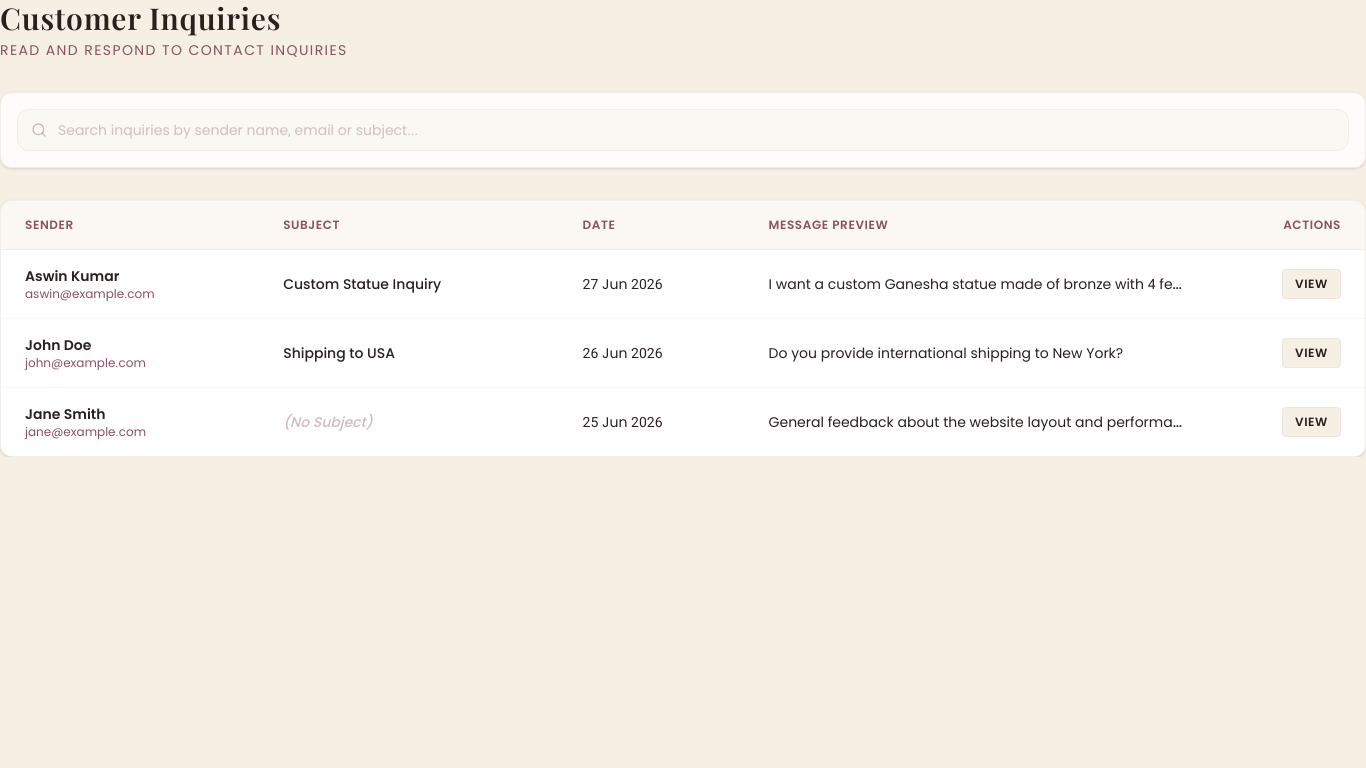
Test: AdminMessagesPage › opens details modal when clicking on view button and closes it
Expected: the text "Inquiry Details" is not shown
// Click the view button for the first submission
Click the button "View" in the row of "Aswin Kumar" at (1312, 284), box 1282,269 -> 1341,299
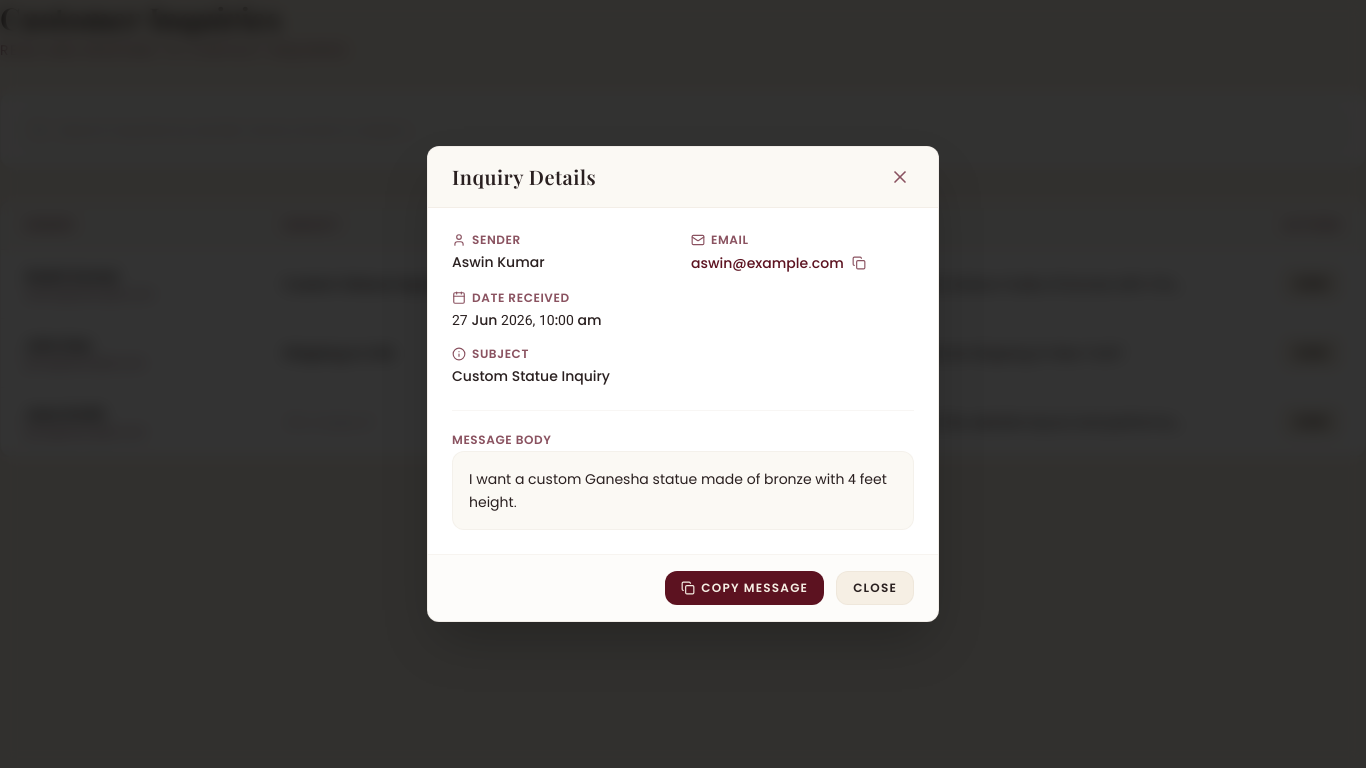
Expected: the heading "Inquiry Details" is shown, 452,163 -> 596,191
// Click close button
Click the button "Close" at (875, 588), box 836,571 -> 914,605
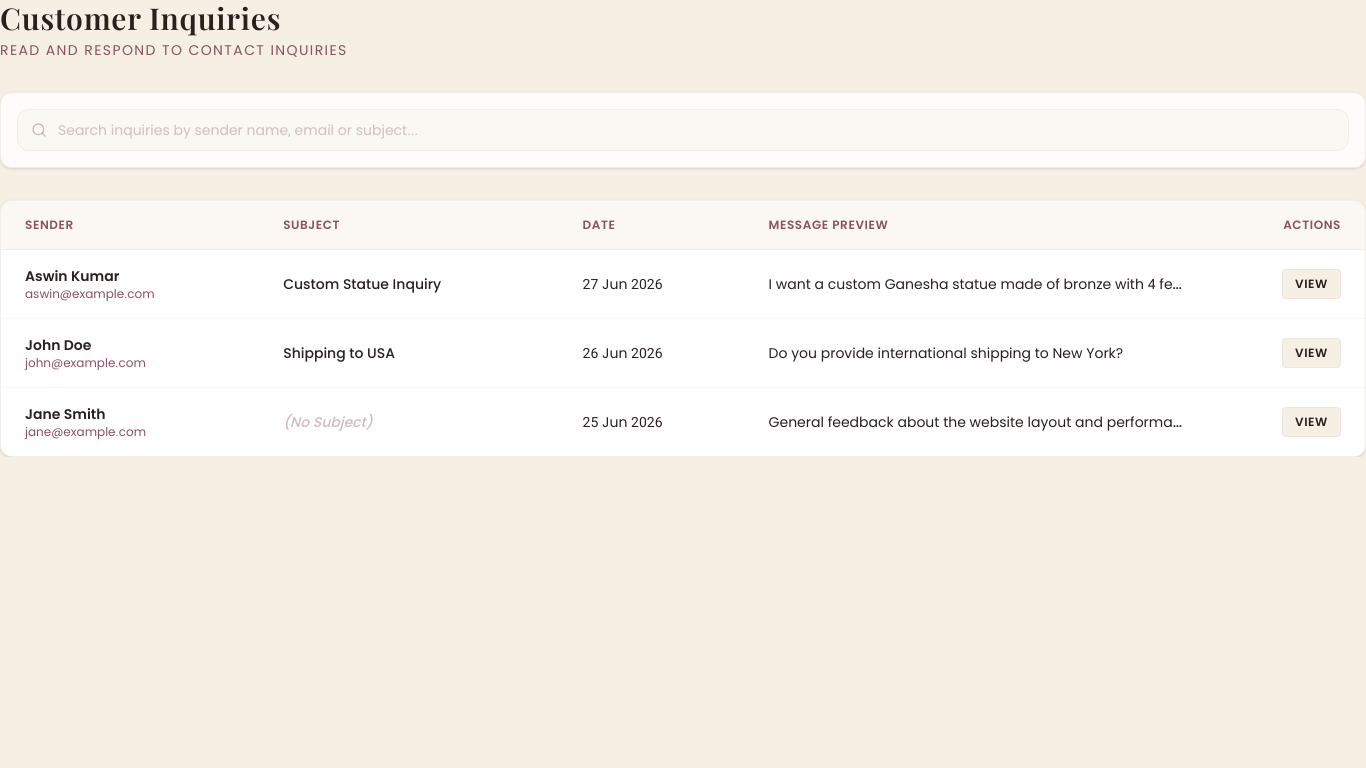
Expected: the heading "Inquiry Details" is gone
